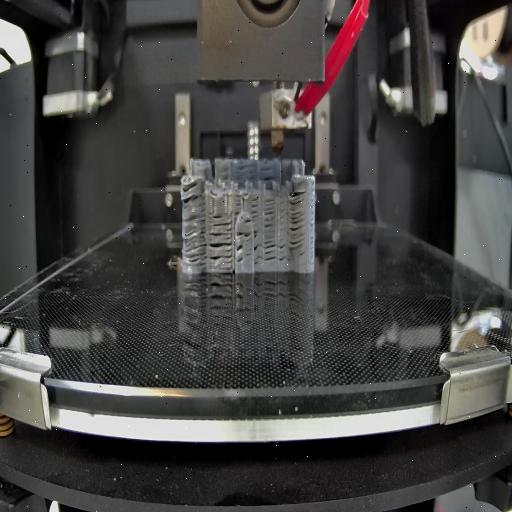cracks: (182, 215, 206, 267), (288, 190, 306, 258), (209, 228, 233, 264), (236, 231, 262, 263), (264, 239, 289, 265), (182, 183, 204, 205), (264, 196, 276, 232), (238, 164, 256, 182), (310, 180, 314, 258), (211, 216, 233, 228), (234, 193, 242, 216), (220, 168, 232, 182), (250, 198, 258, 218), (239, 215, 254, 225), (261, 176, 279, 182), (260, 166, 276, 171)
